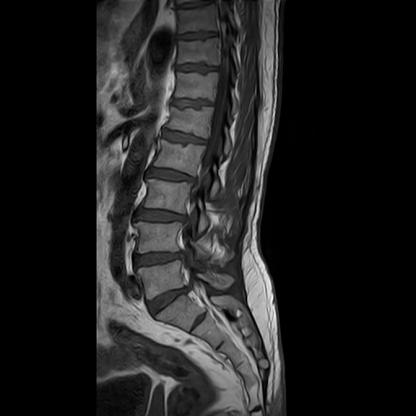Annular Disc Relaxationrotation: (147, 165, 197, 188), (160, 129, 207, 150)
Disc Bulgerotation: (146, 288, 193, 310), (135, 250, 181, 271)
